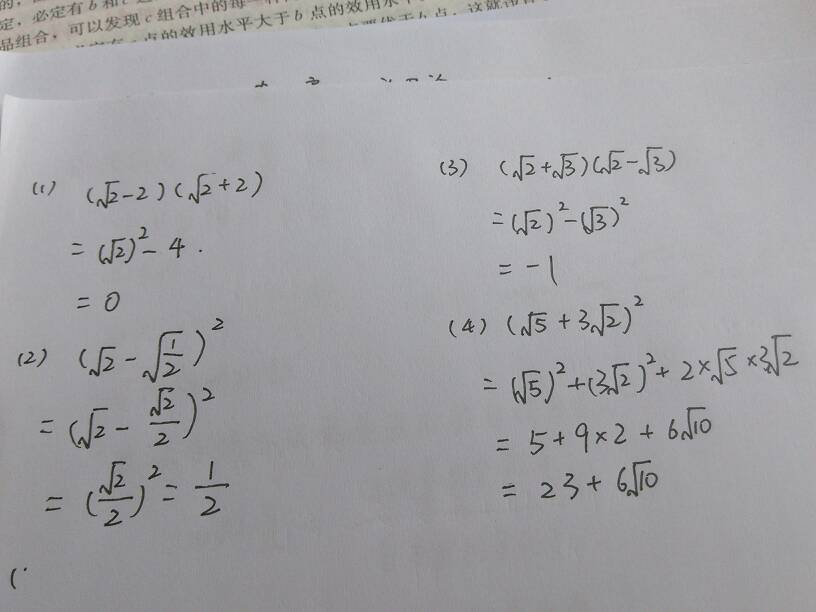sqrt: (142, 328, 185, 380), (624, 452, 665, 499), (677, 402, 717, 443), (78, 403, 113, 449), (768, 327, 796, 381), (709, 342, 741, 388), (85, 340, 120, 379), (589, 300, 624, 339), (515, 364, 544, 406), (97, 457, 127, 496), (187, 169, 218, 204), (513, 206, 549, 236), (582, 202, 615, 234), (144, 384, 173, 419), (518, 310, 554, 338), (640, 141, 667, 177), (605, 359, 631, 396), (551, 151, 582, 181), (599, 146, 628, 174), (100, 238, 130, 265), (513, 153, 537, 183), (99, 179, 122, 208)
square: (206, 314, 232, 339), (135, 221, 155, 243), (193, 385, 217, 402), (143, 463, 162, 483), (553, 357, 573, 375), (628, 291, 645, 307), (557, 198, 572, 214), (647, 350, 659, 369), (616, 193, 628, 209)
